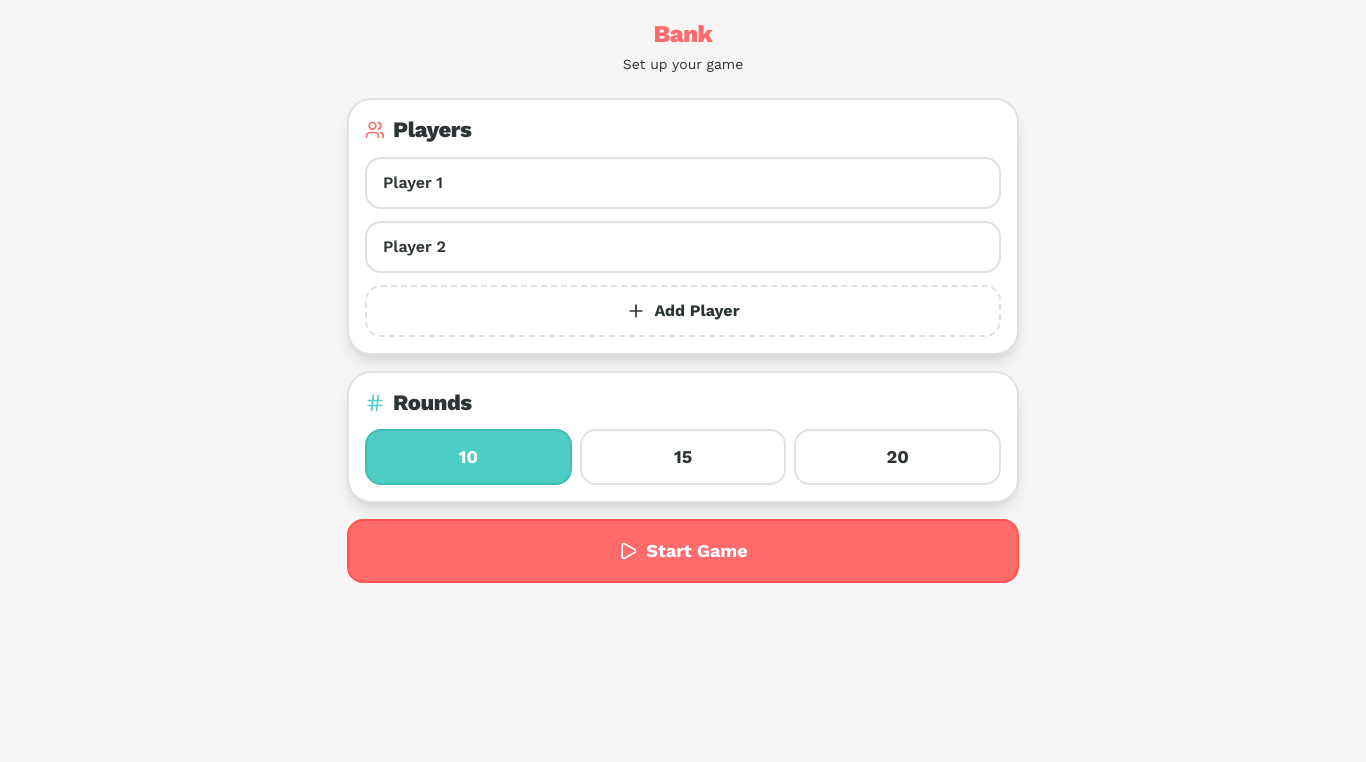
it: Smoke Tests - Component Rendering › renders GameScreen after starting game without errors
Note: Start a game
Click the button "Start Game": click(683, 551) [347, 519, 1019, 583]
(page scrolled)
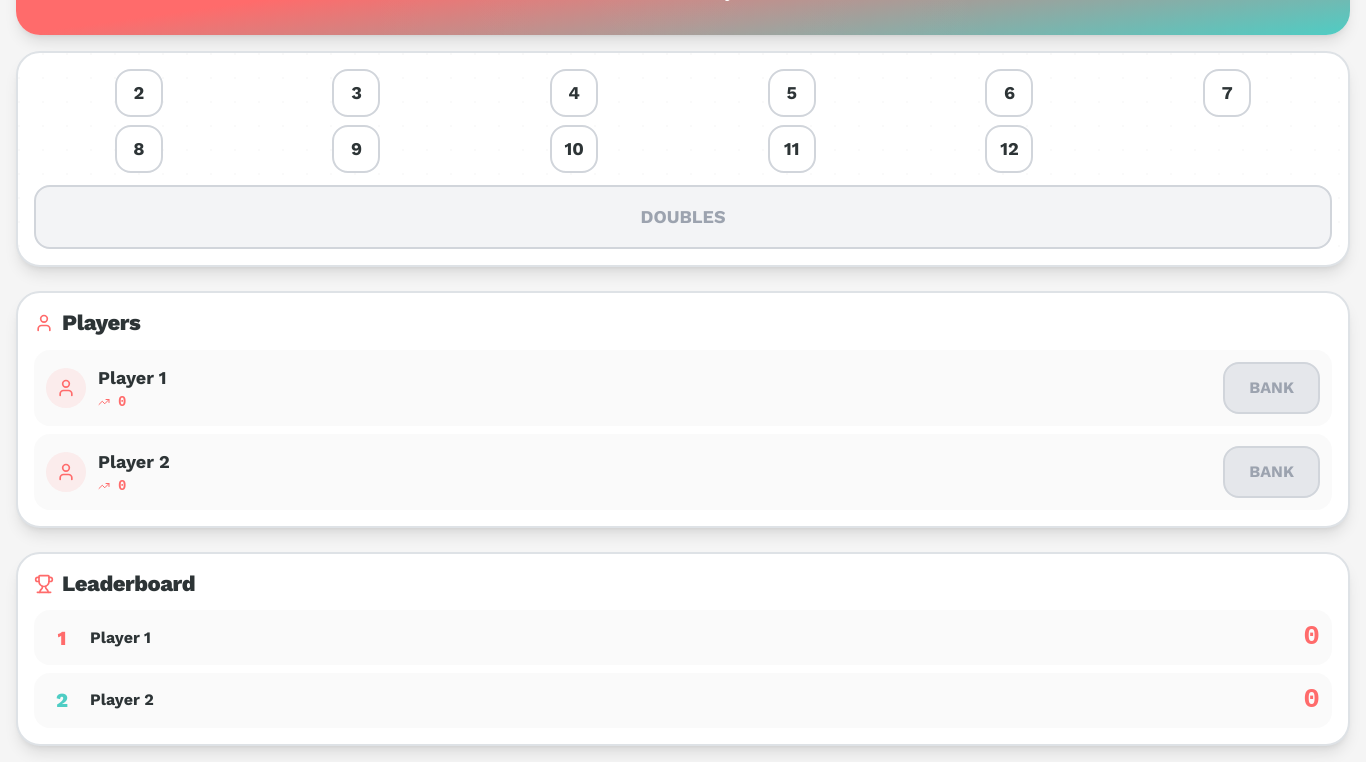
Expected: the heading "Players" is shown, [62, 309, 140, 338]
Now the heading "Leaderboard" is shown, box [62, 570, 195, 598]
